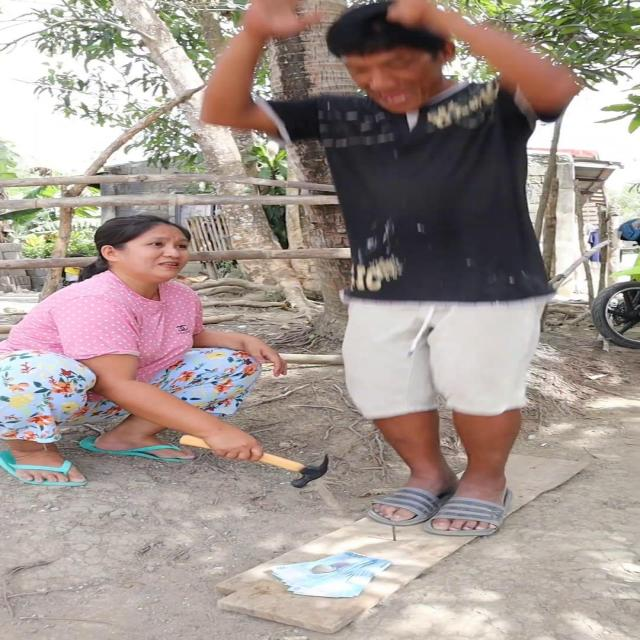hammer: (179, 437, 331, 488)
